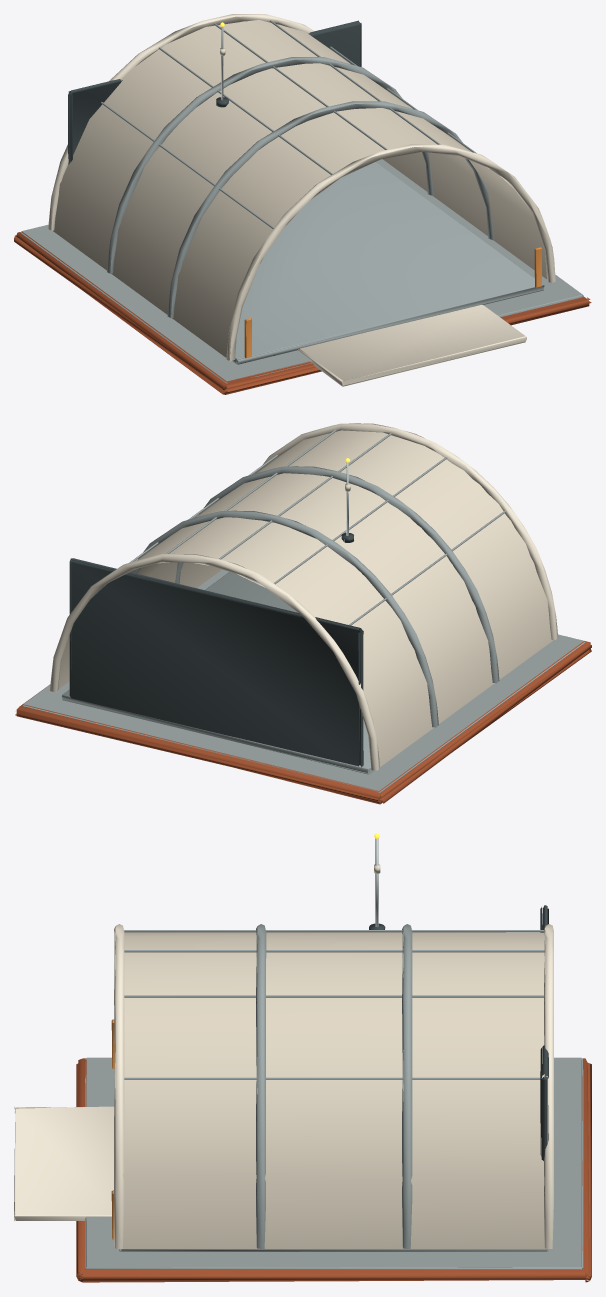
File: storage.glb
3 views of the same model, one above another, from view 1: azimuth 30°, elevation 25°; view 2: azimuth 150°, elevation 25°; view 3: azimuth 270°, elevation 25° (orthographic). The views are drawn at different scales.
Visible parts, largest first — view 1: storage; view 2: storage; view 3: storage.
Part boxes in pixels (x1=…): storage: x1=14, y1=14, x2=591, y2=394; storage: x1=15, y1=423, x2=591, y2=804; storage: x1=14, y1=833, x2=591, y2=1282.
Size of the model in its own units: 8.86 by 5.85 by 10.
